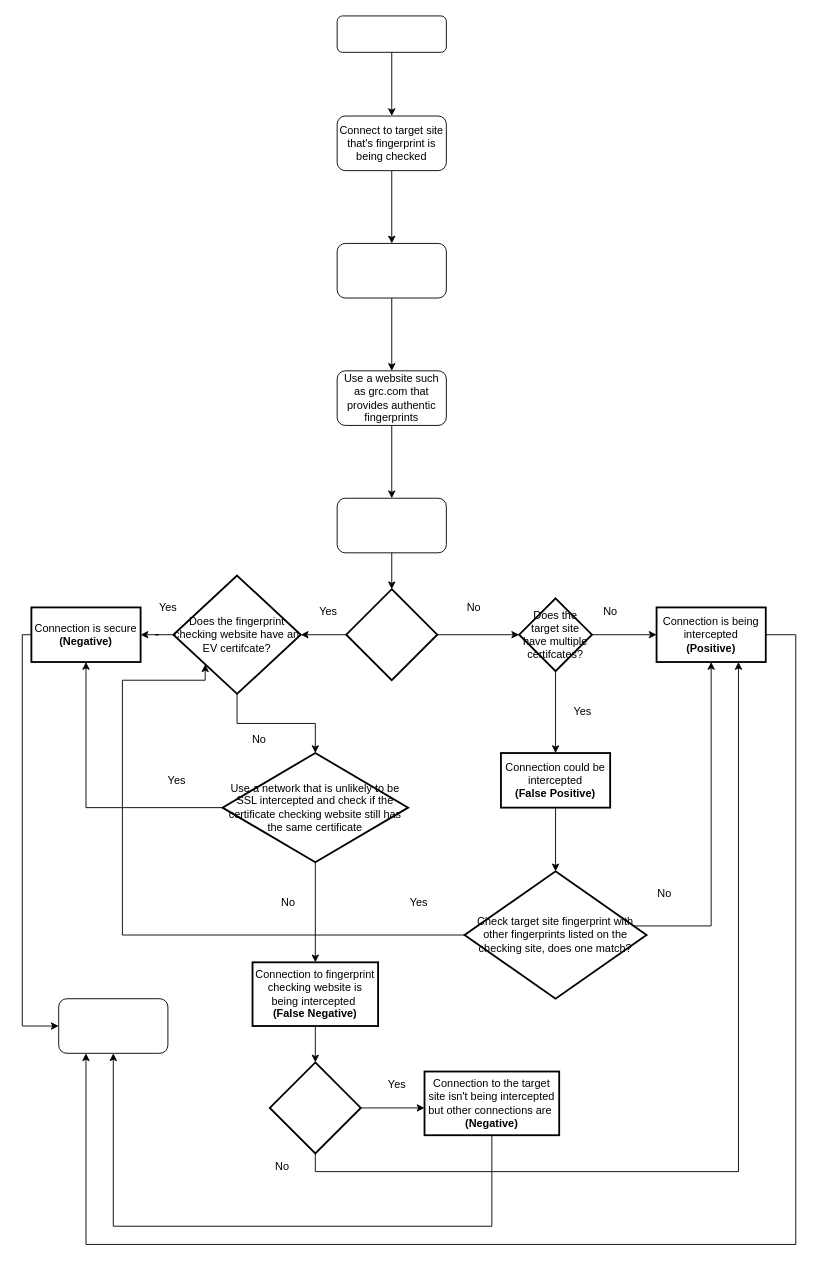
The diagram is 819 pixels wide and 1268 high, and some of its shapes have lost their labels. The centre of each missing label's shape, as x and y in pixels:
Check the certificate's hash (fingerprint): [391,270]
Check the webpage's fingerprint of the target site: [391,525]
End: [113,1025]
Fingerprints match?: [391,634]
Start: [391,33]
Use the non-intercepted network to check if target site's fingerprints match: [314,1107]
